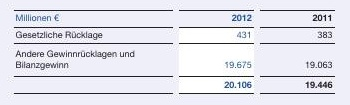table: (0, 0, 350, 105)
